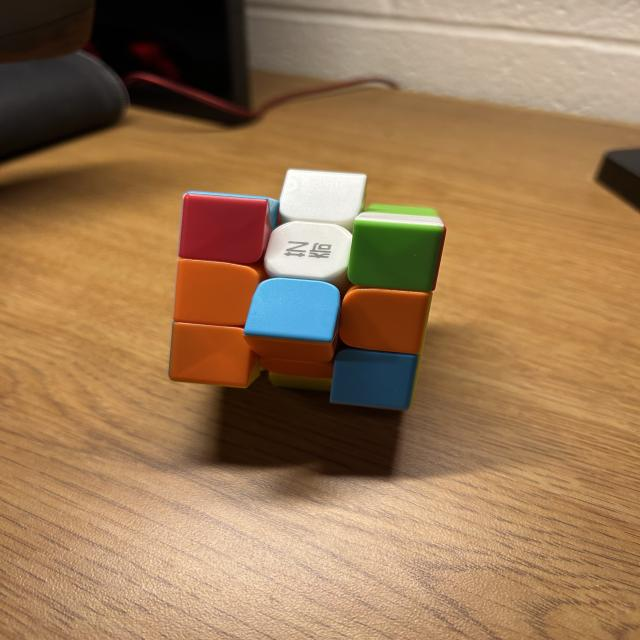Rubiks Cube: (170, 169, 445, 412)
